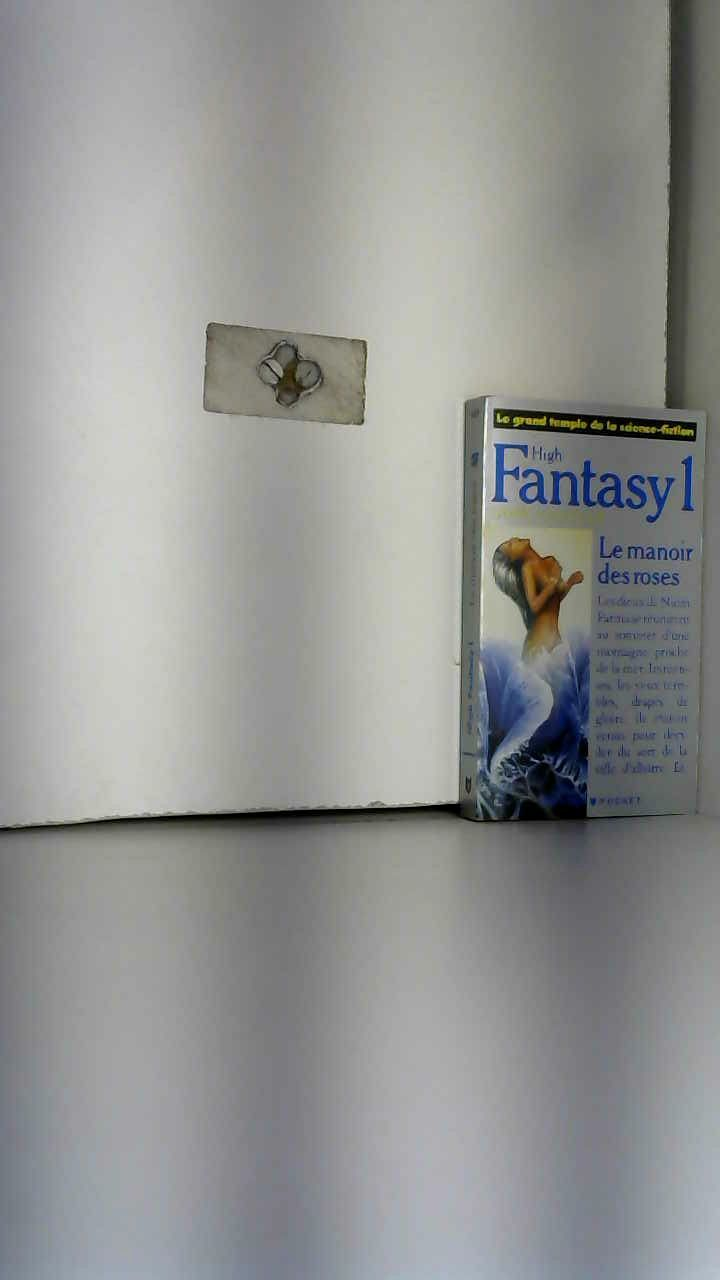book: (435, 359, 720, 852)
